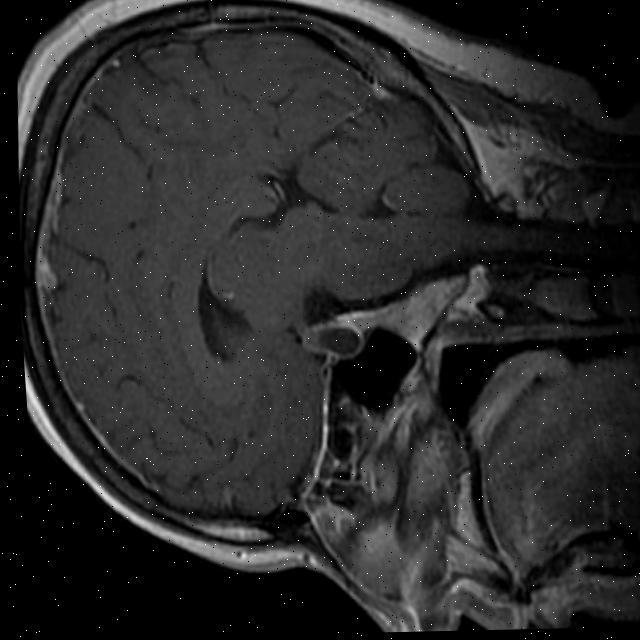Pituitary: (301, 319, 366, 359)
